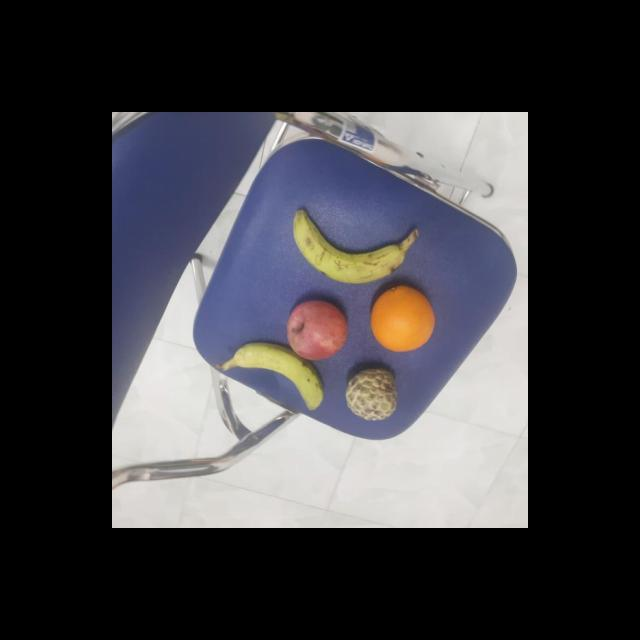Sakya fruit: (344, 368, 399, 424)
apple: (282, 298, 350, 362)
banana: (290, 208, 406, 286), (232, 341, 329, 419)
orange: (368, 284, 439, 354)
